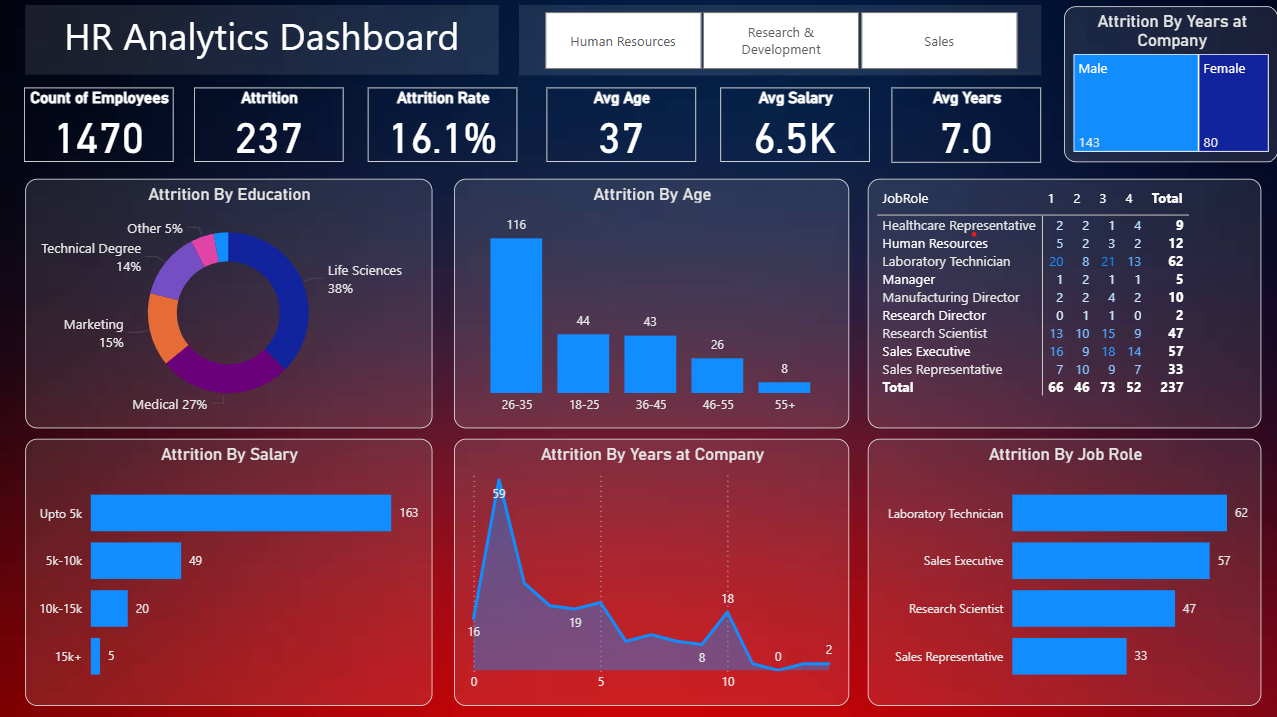

What the dashboard file says about the page in this screenshot:
{"tool":"powerbi","page":{"name":"Page 1","canvas":[1280,720],"ordinal":0},"visuals":[{"type":"card","title":"Count of Employees","fields":{"Values":["CountNonNull(HR_Analytics.EmpID)"]},"box":[25.5,87.7,149.5,74.8],"z":0},{"type":"card","title":"Attrition","fields":{"Values":["Sum(HR_Analytics.AttritionCount)"]},"box":[194.6,87.7,149.5,74.8],"z":1000},{"type":"card","title":"Attrition Rate","fields":{"Values":["HR_Analytics.AttritionRate"]},"box":[369,87.7,149.5,74.8],"z":2000},{"type":"card","title":"Avg Age","fields":{"Values":["Avg(HR_Analytics.Age)"]},"box":[547,87.7,149.5,74.8],"z":3000},{"type":"card","title":"Avg Salary","fields":{"Values":["Avg(HR_Analytics.MonthlyIncome)"]},"box":[721.4,87.7,149.5,74.8],"z":4000},{"type":"card","title":"Avg Years","fields":{"Values":["Avg(HR_Analytics.YearsAtCompany)"]},"box":[892.2,87.2,149.7,74.8],"z":5000},{"type":"donutChart","title":"Attrition By Education","fields":{"Category":["HR_Analytics.EducationField"],"Y":["Sum(HR_Analytics.AttritionCount)"]},"box":[26,178.9,406.9,249.6],"z":6000},{"type":"columnChart","title":"Attrition By Age","fields":{"Category":["HR_Analytics.AgeGroup"],"Y":["Sum(HR_Analytics.AttritionCount)"]},"box":[454.5,178.9,395.3,249.6],"z":7000},{"type":"pivotTable","fields":{"Rows":["HR_Analytics.JobRole"],"Columns":["HR_Analytics.JobSatisfaction"],"Values":["Sum(HR_Analytics.AttritionCount)"]},"box":[868.5,178.9,393.9,249.6],"z":8000},{"type":"clusteredBarChart","title":"Attrition By Salary","fields":{"Category":["HR_Analytics.SalarySlab"],"Y":["Sum(HR_Analytics.AttritionCount)"]},"box":[26,438.6,406.9,266.9],"z":9000},{"type":"clusteredBarChart","title":"Attrition By Job Role","fields":{"Category":["HR_Analytics.JobRole"],"Y":["Sum(HR_Analytics.AttritionCount)"]},"box":[868.5,438.6,393.9,266.9],"z":10000},{"type":"areaChart","title":"Attrition By Years at Company","fields":{"Category":["HR_Analytics.YearsAtCompany"],"Y":["Sum(HR_Analytics.AttritionCount)"]},"box":[454.5,438.6,395.3,266.9],"z":11000},{"type":"treemap","title":"Attrition By Years at Company","fields":{"Group":["HR_Analytics.Gender"],"Values":["Sum(HR_Analytics.AttritionCount)"]},"box":[1064.7,5.8,215,155.8],"z":12000},{"type":"slicer","fields":{"Values":["HR_Analytics.Department"]},"box":[519.7,5.2,522.3,70.7],"z":13000},{"type":"textbox","box":[26.2,5.2,473.2,69.3],"z":14000}]}

Visuals, with their boxes in screenshot pixels (x1, y1, x2, y2), scaled from the page's 1280x720 canvas onto the 1277x717 screenshot:
"Count of Employees" card: l=25, t=87, r=175, b=162
"Attrition" card: l=194, t=87, r=343, b=162
"Attrition Rate" card: l=368, t=87, r=517, b=162
"Avg Age" card: l=546, t=87, r=695, b=162
"Avg Salary" card: l=720, t=87, r=869, b=162
"Avg Years" card: l=890, t=87, r=1039, b=161
"Attrition By Education" donutChart: l=26, t=178, r=432, b=427
"Attrition By Age" columnChart: l=453, t=178, r=848, b=427
pivotTable - HR_Analytics.JobRole x HR_Analytics.JobSatisfaction: l=866, t=178, r=1259, b=427
"Attrition By Salary" clusteredBarChart: l=26, t=437, r=432, b=703
"Attrition By Job Role" clusteredBarChart: l=866, t=437, r=1259, b=703
"Attrition By Years at Company" areaChart: l=453, t=437, r=848, b=703
"Attrition By Years at Company" treemap: l=1062, t=6, r=1276, b=161
slicer - HR_Analytics.Department: l=518, t=5, r=1040, b=76
textbox: l=26, t=5, r=498, b=74
